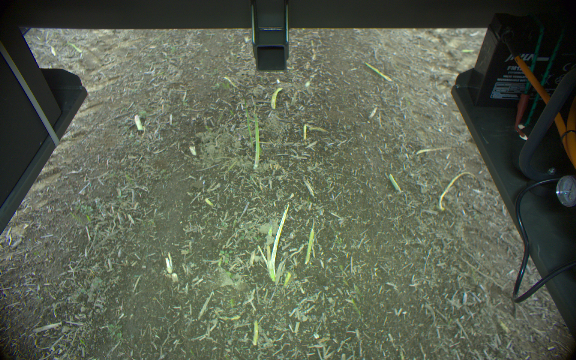aspa: (269, 203, 292, 281), (437, 168, 477, 212), (248, 96, 264, 168), (258, 227, 277, 279), (263, 84, 287, 112), (363, 61, 393, 83), (247, 317, 265, 349), (384, 167, 403, 197), (303, 227, 317, 266)
